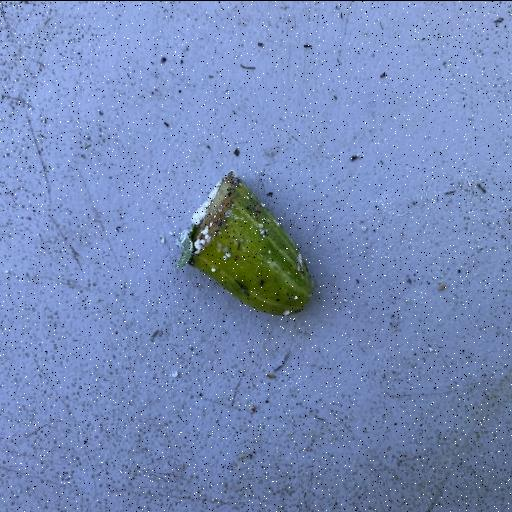Waste: (174, 170, 316, 316)
